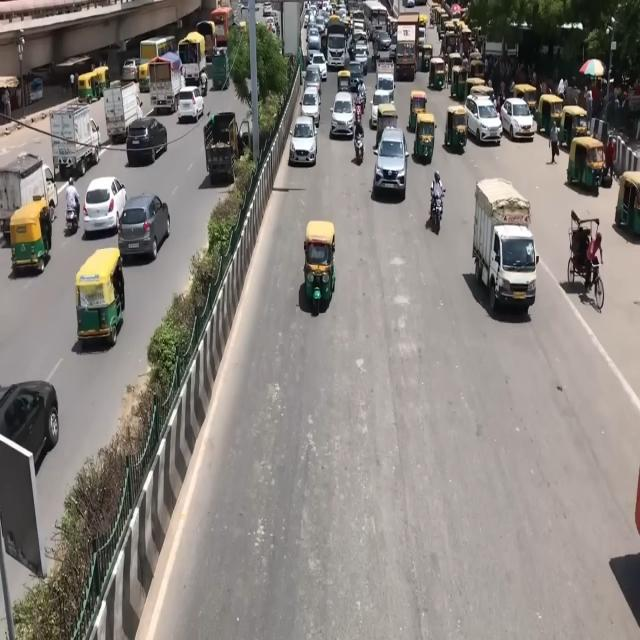auto: (74, 247, 126, 344), (9, 201, 51, 274), (305, 220, 337, 312), (567, 134, 605, 193), (615, 171, 640, 236), (560, 104, 588, 151), (536, 93, 564, 139), (444, 104, 468, 157), (413, 111, 436, 163), (375, 103, 399, 149), (408, 89, 428, 134), (446, 52, 465, 96), (428, 54, 446, 90), (465, 76, 486, 105), (468, 55, 485, 81), (418, 41, 432, 72), (337, 69, 352, 95), (138, 63, 150, 93)
bike-auto: (586, 230, 602, 292), (430, 170, 446, 226), (65, 179, 80, 230), (354, 120, 364, 163), (354, 89, 366, 121)
